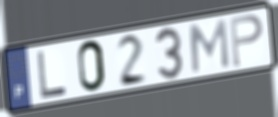0: (76, 39, 108, 94)
2: (113, 33, 148, 88)
3: (154, 25, 184, 82)
L: (35, 49, 69, 101)
M: (187, 17, 231, 75)
P: (228, 12, 265, 69)
